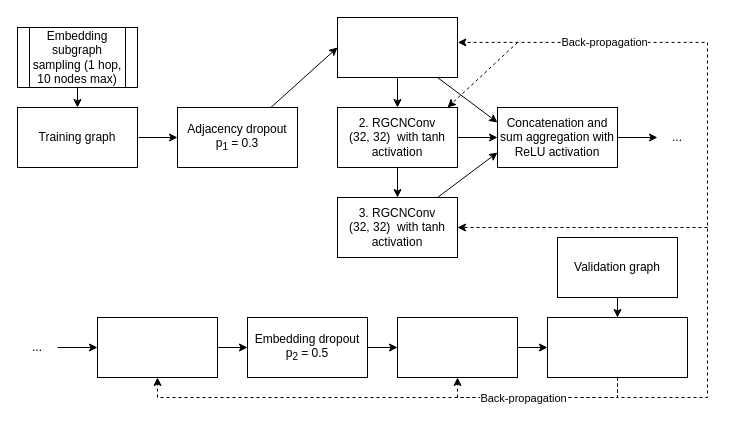
Image size: 733x423. Some labels were removed from this diagram. The shapes that lost their labels are listed below. From the top down, each one's box as (x1, y1, x2, y2) in pixels, then its label:
(336, 16, 458, 78): 1. RGCNConv (4, 32) with tanh activation
(96, 316, 218, 378): Hidden dense layer (128, 128) with ReLU activaiton
(396, 316, 518, 378): Output dense layer (128, 5)
(546, 316, 688, 378): Evaluation: Log softmax followed by NLL + ARR loss
